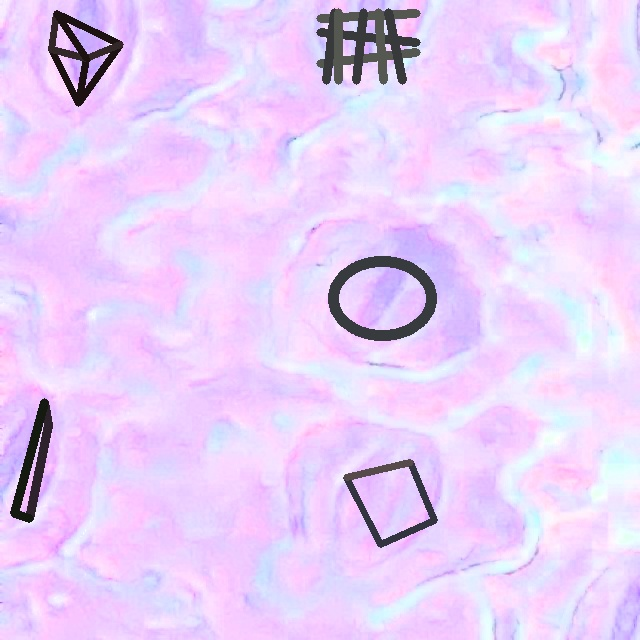open: (327, 257, 436, 340), (343, 460, 436, 546), (316, 8, 420, 84), (48, 10, 123, 106), (10, 398, 52, 522)
